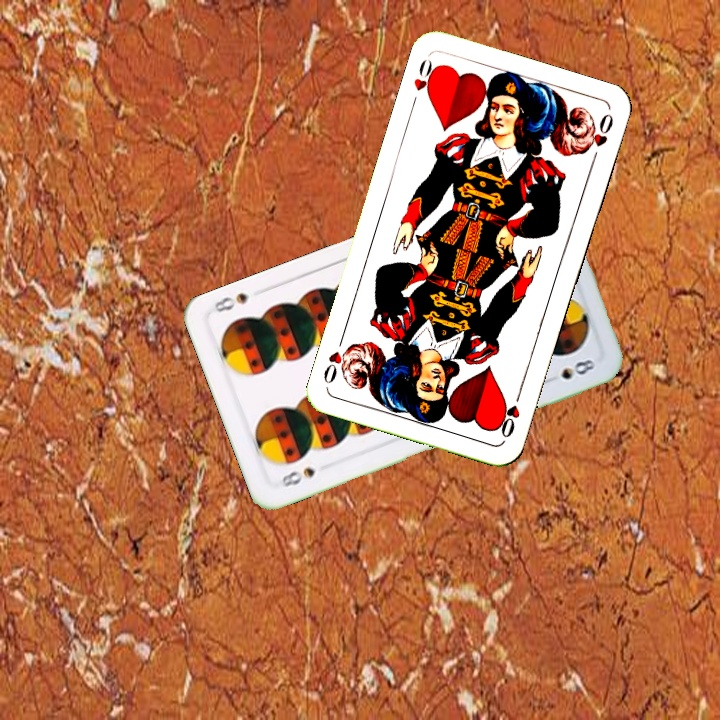HO: (407, 55, 442, 110), (496, 385, 525, 441)
S8: (278, 463, 318, 490)
